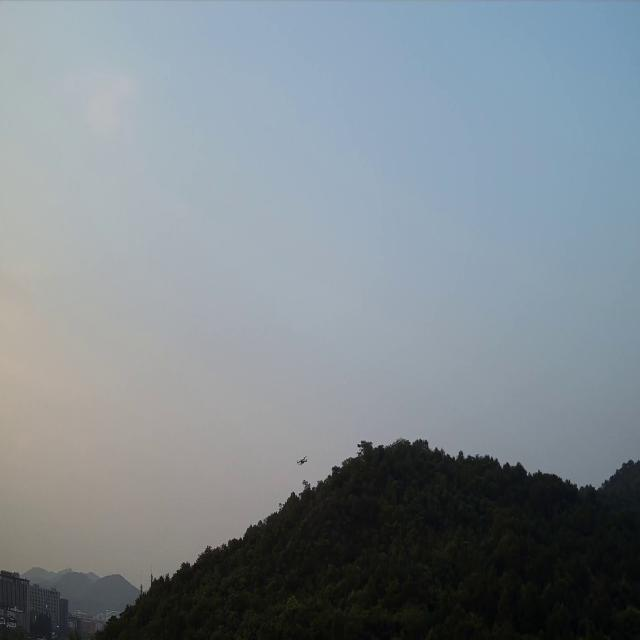UAV: (297, 455, 308, 466)
